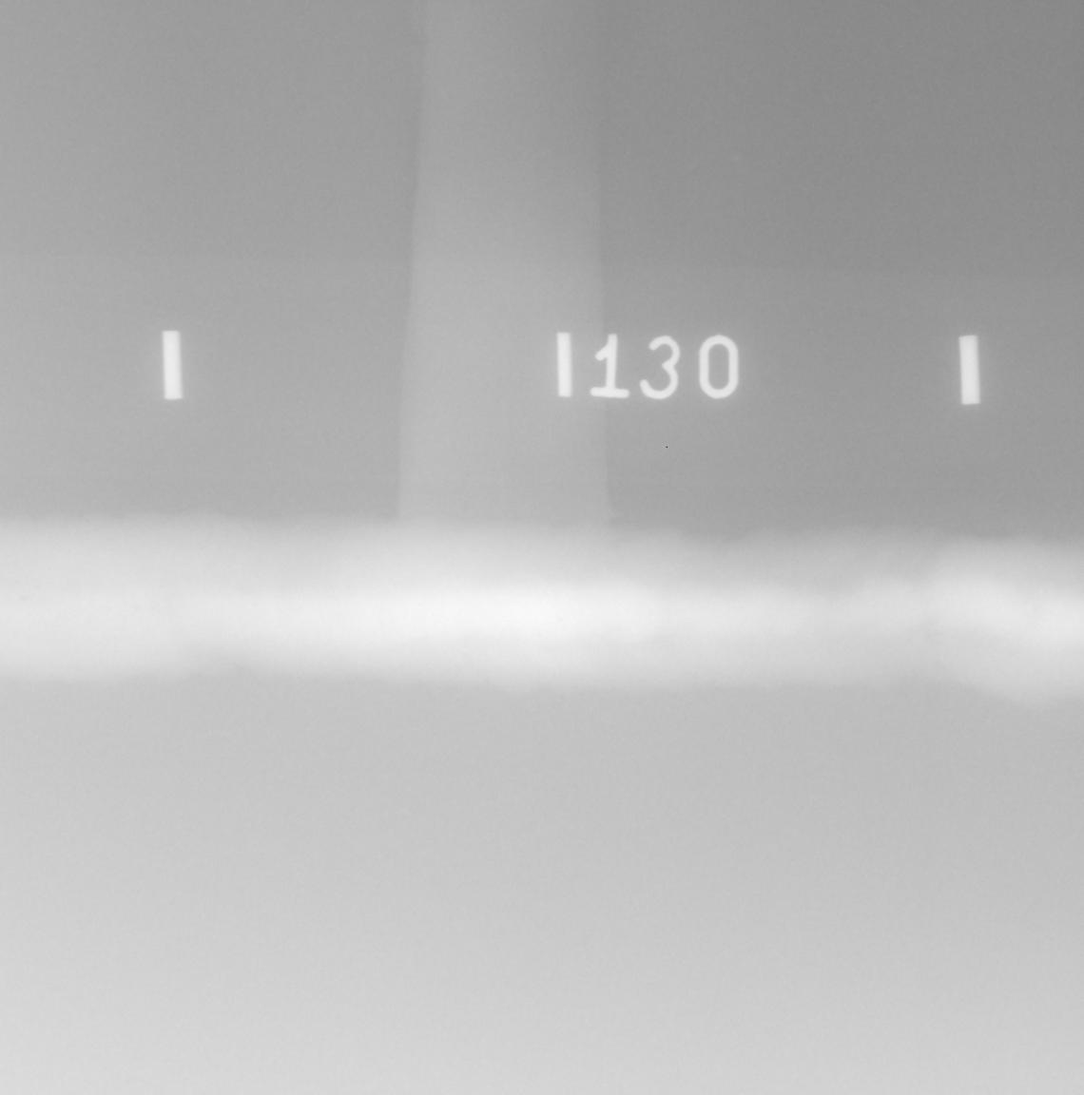Pore/Porosity: (18, 595, 27, 602), (133, 606, 139, 611), (107, 607, 111, 612), (37, 585, 40, 589)
